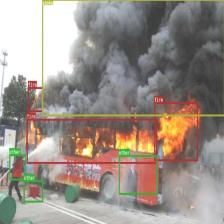fire: (26, 118, 156, 164), (154, 102, 198, 161), (28, 86, 43, 112)
smoke: (41, 0, 223, 115)
